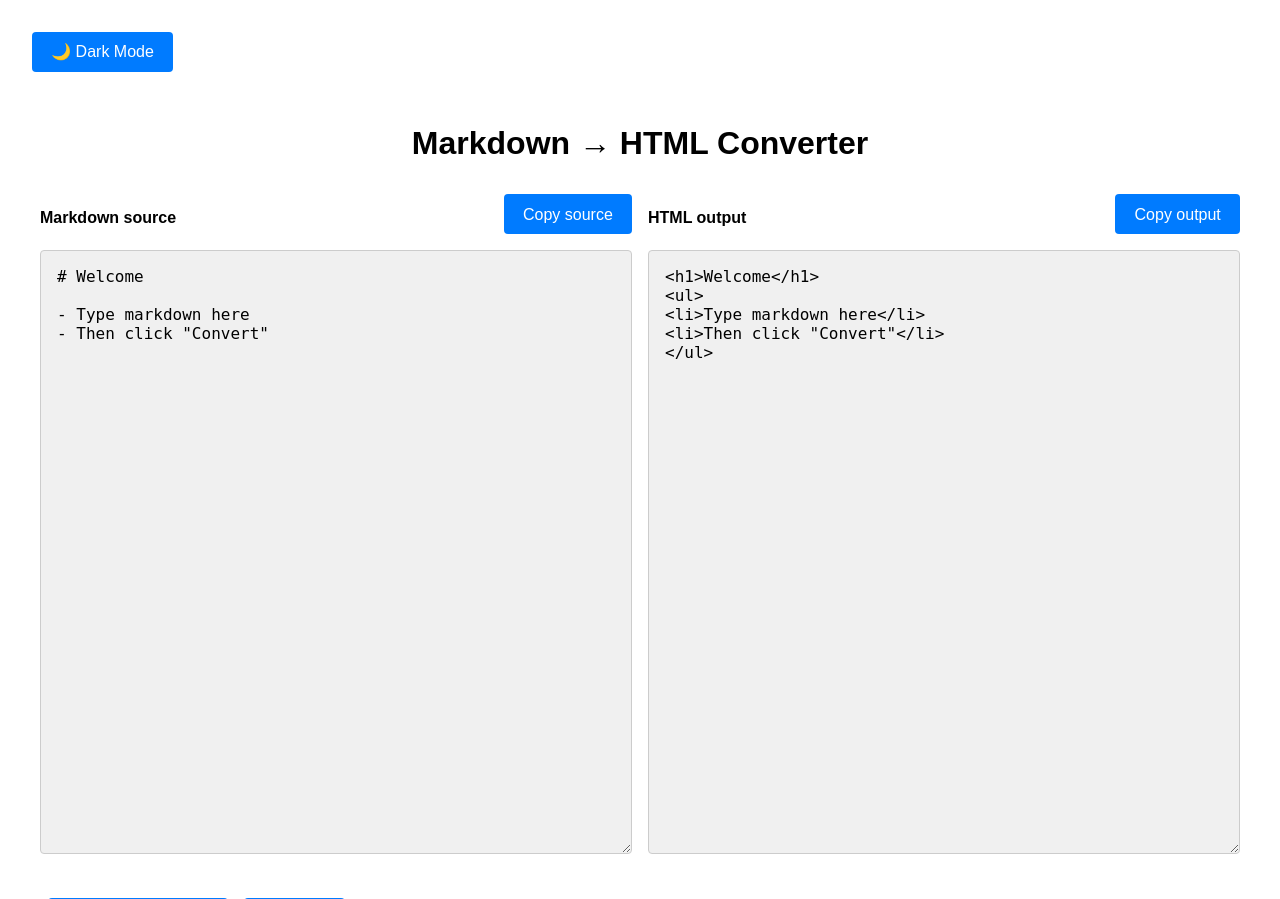
App › removes copied feedback when the copied content changes
Click the button "Copy source" at (568,214), box left=504, top=194, right=632, bottom=234
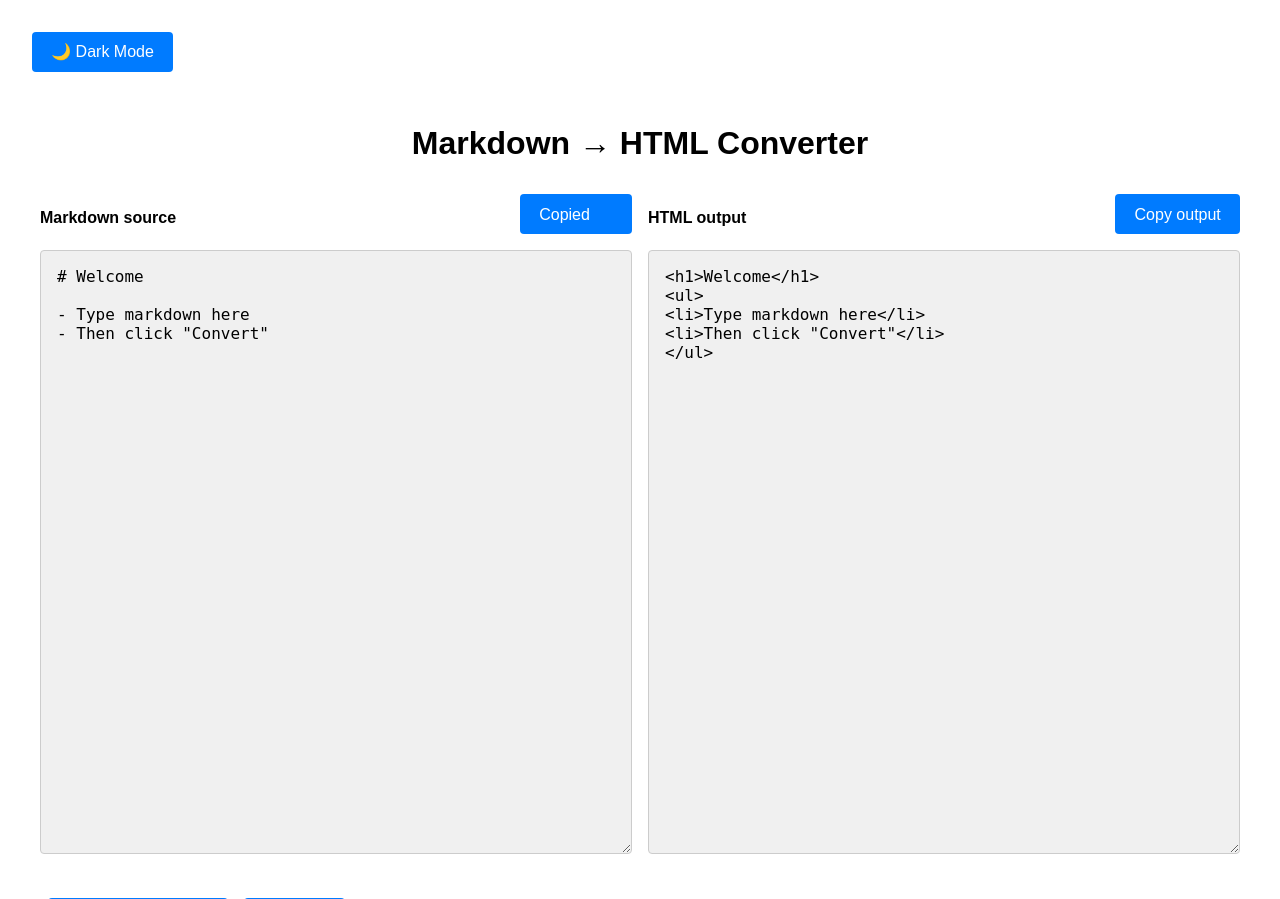
Result: the button "Copied" is shown at left=520, top=194, right=632, bottom=234
Type "# Updated" into the text box labelled "Markdown source" at (336,552), box left=40, top=250, right=632, bottom=854
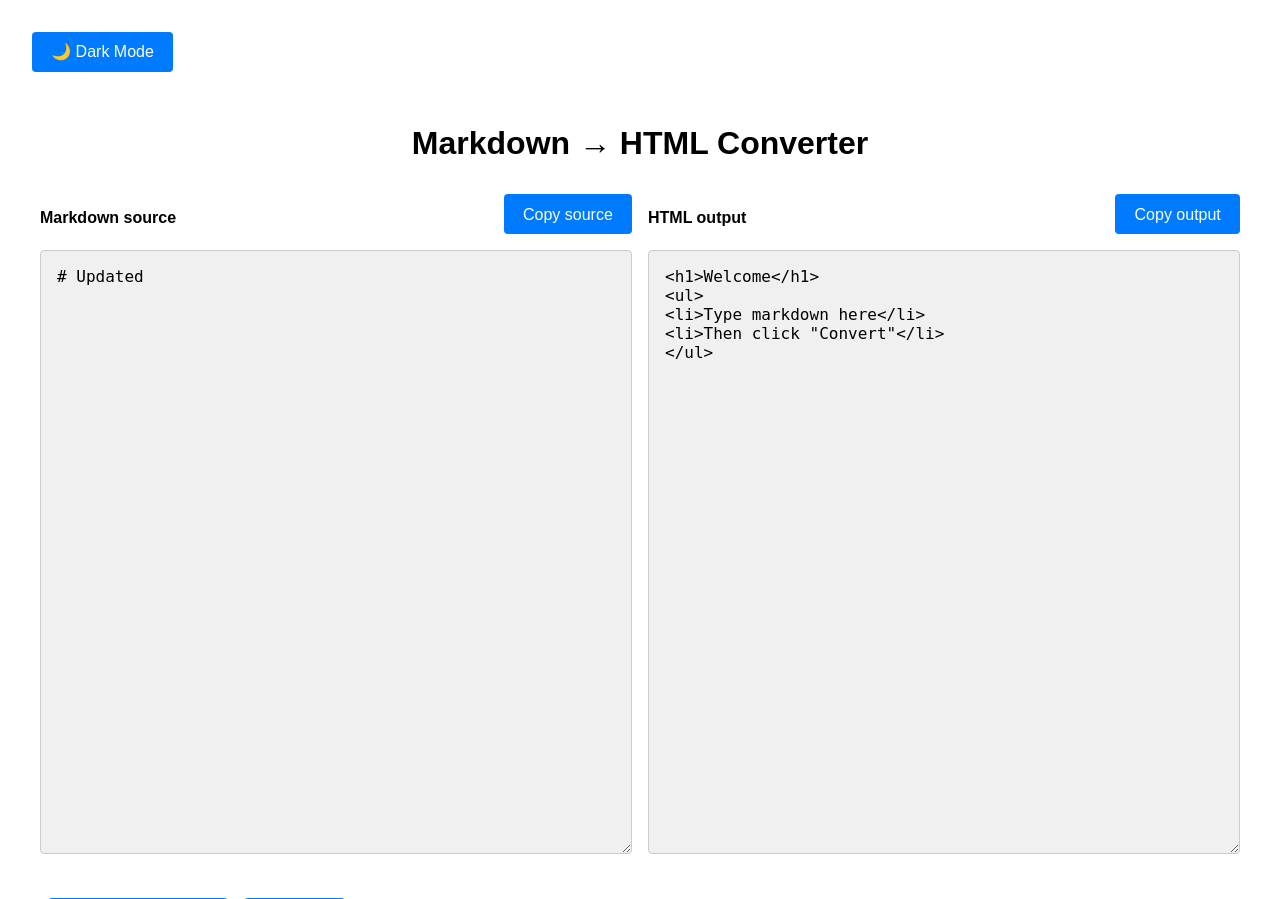
Result: the button "Copy source" is shown at left=504, top=194, right=632, bottom=234
Click the button "Copy output" at (1178,214), box left=1115, top=194, right=1240, bottom=234
(page scrolled)
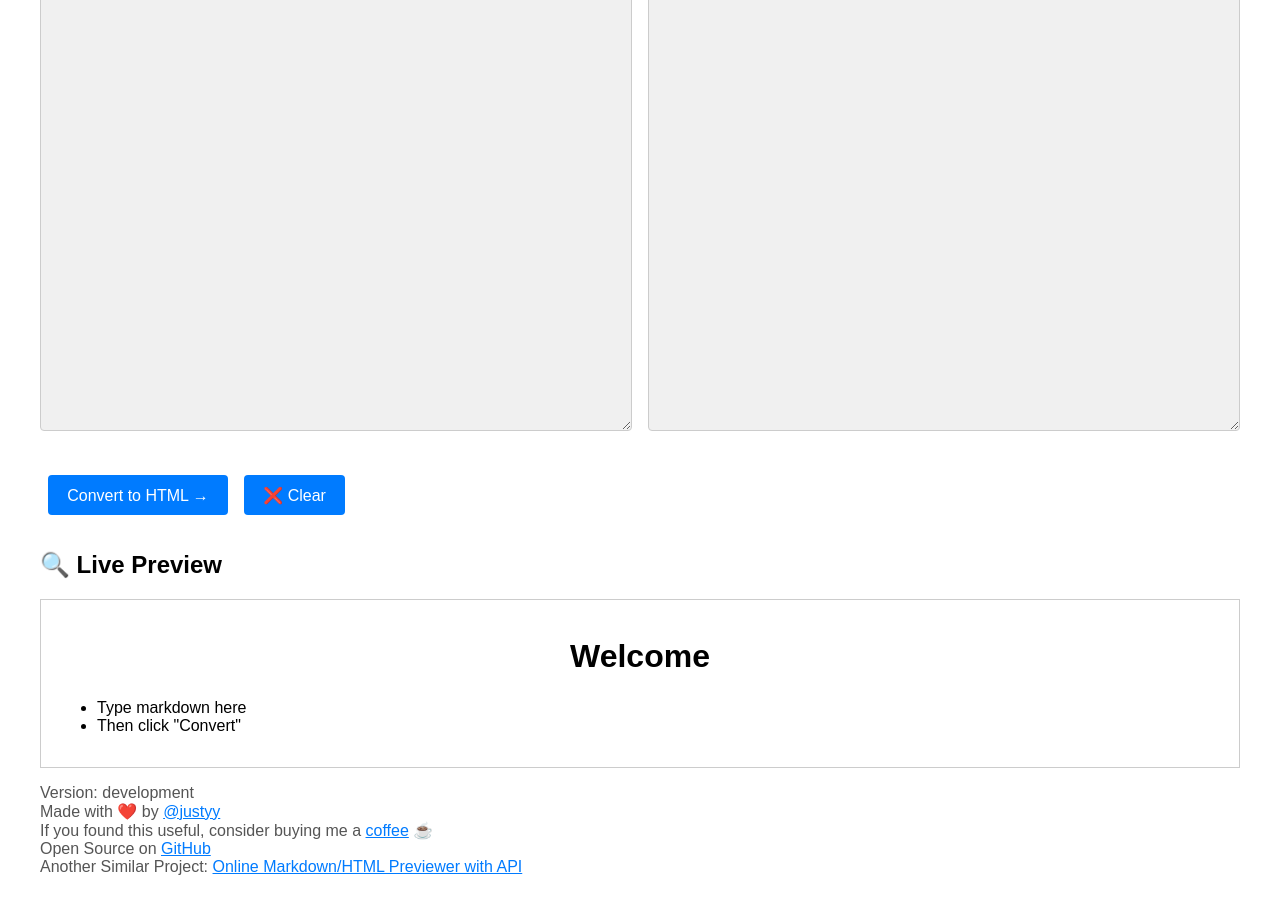
Click the button "Convert to HTML →" at (138,495), box left=48, top=475, right=228, bottom=515
(page scrolled)
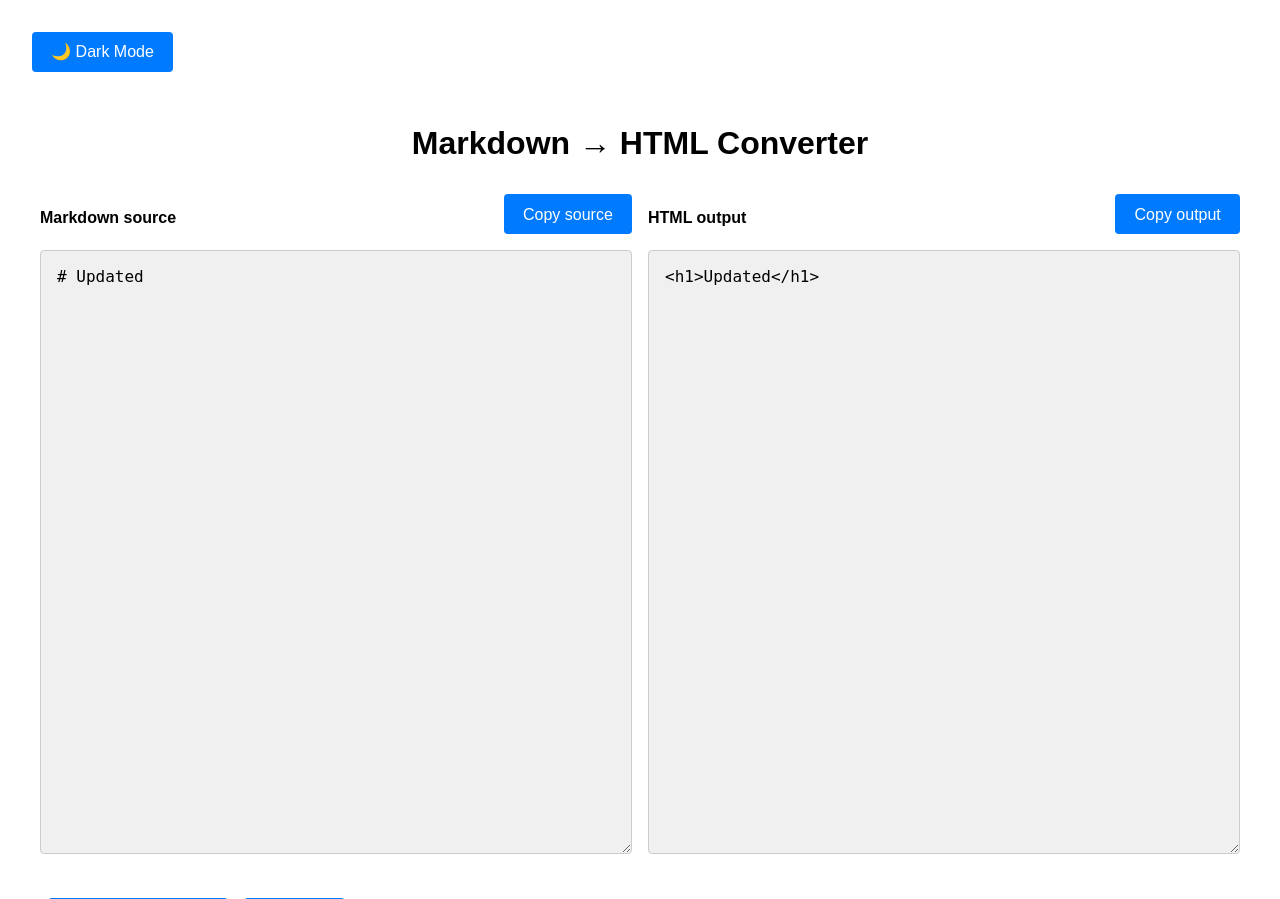
Result: the button "Copy output" is shown at left=1115, top=194, right=1240, bottom=234
